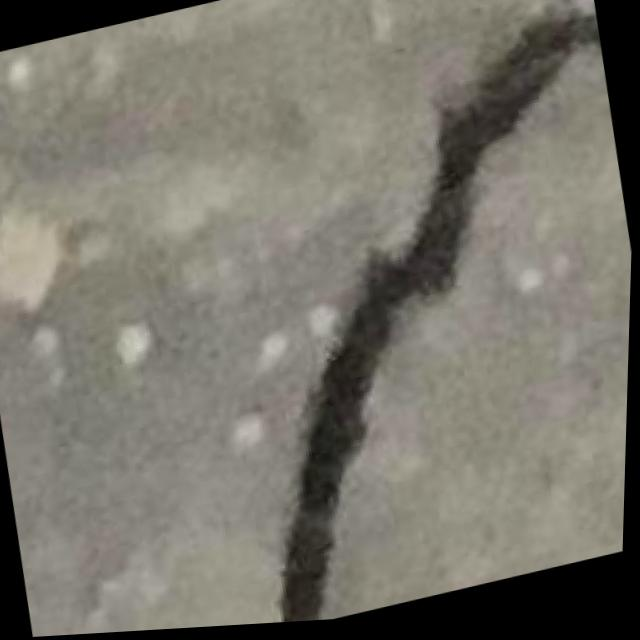Crack: (188, 2, 639, 631)
